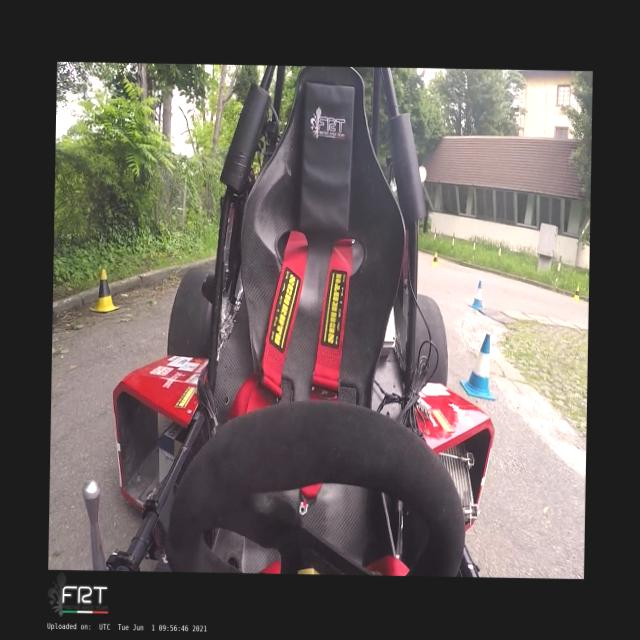blue_cone: (459, 332, 496, 400), (468, 280, 484, 309)
yellow_cone: (89, 268, 120, 312), (570, 285, 580, 300), (431, 252, 438, 266)
